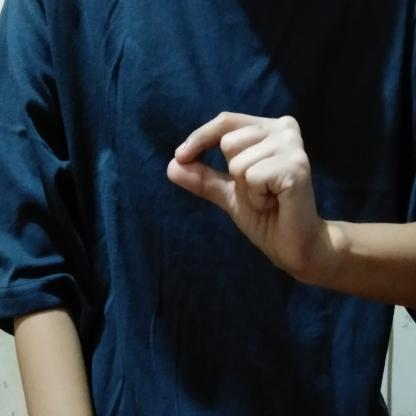nothing: (160, 105, 348, 296)
